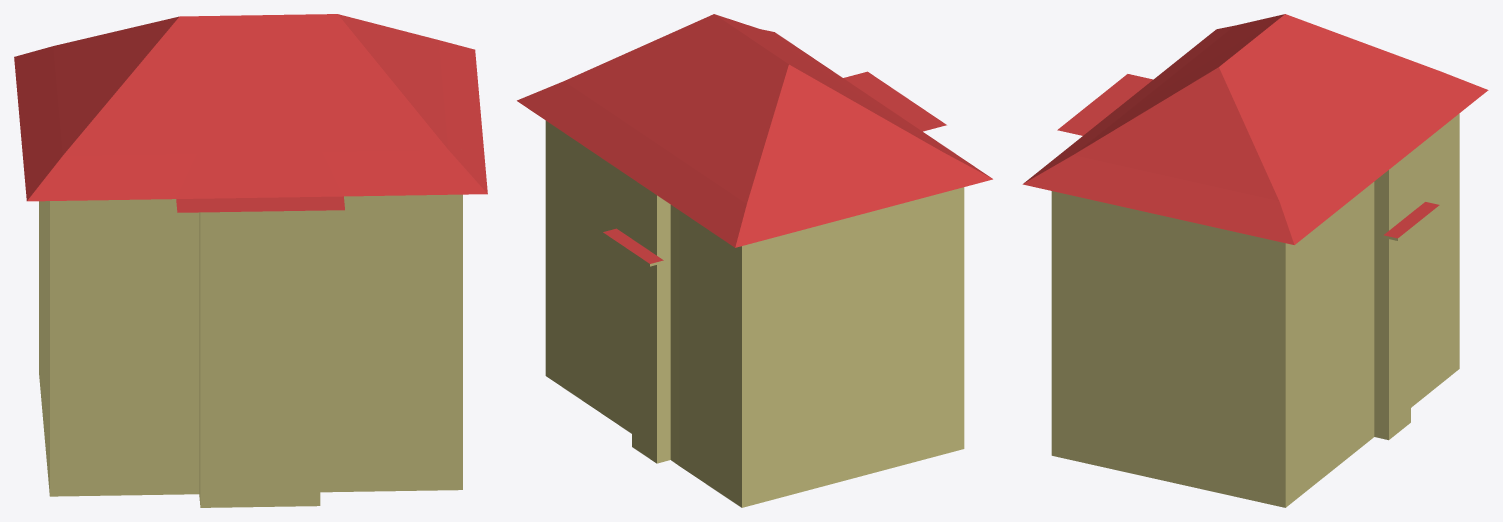
The picture shows the model from 3 angles, left to right: view 1: azimuth 30°, elevation 25°; view 2: azimuth 150°, elevation 25°; view 3: azimuth 270°, elevation 25°; orthographic projection. The views are drawn at different scales.
Visible parts, largest first — view 1: group_5, group_3, group_4; view 2: group_5, group_3, group_4, group_7; view 3: group_5, group_3, group_4, group_7.
Part boxes in pixels (x1=…): group_5: x1=39, y1=194, x2=462, y2=507; group_3: x1=29, y1=14, x2=487, y2=212; group_4: x1=14, y1=43, x2=487, y2=212; group_5: x1=545, y1=120, x2=964, y2=507; group_3: x1=546, y1=14, x2=964, y2=247; group_4: x1=517, y1=30, x2=992, y2=247; group_7: x1=603, y1=228, x2=663, y2=263; group_5: x1=1051, y1=113, x2=1459, y2=507; group_3: x1=1023, y1=14, x2=1488, y2=240; group_4: x1=1022, y1=27, x2=1474, y2=244; group_7: x1=1384, y1=202, x2=1439, y2=238.
Bounding box in the file's own units: 17.78 × 16.22 × 14.37.
